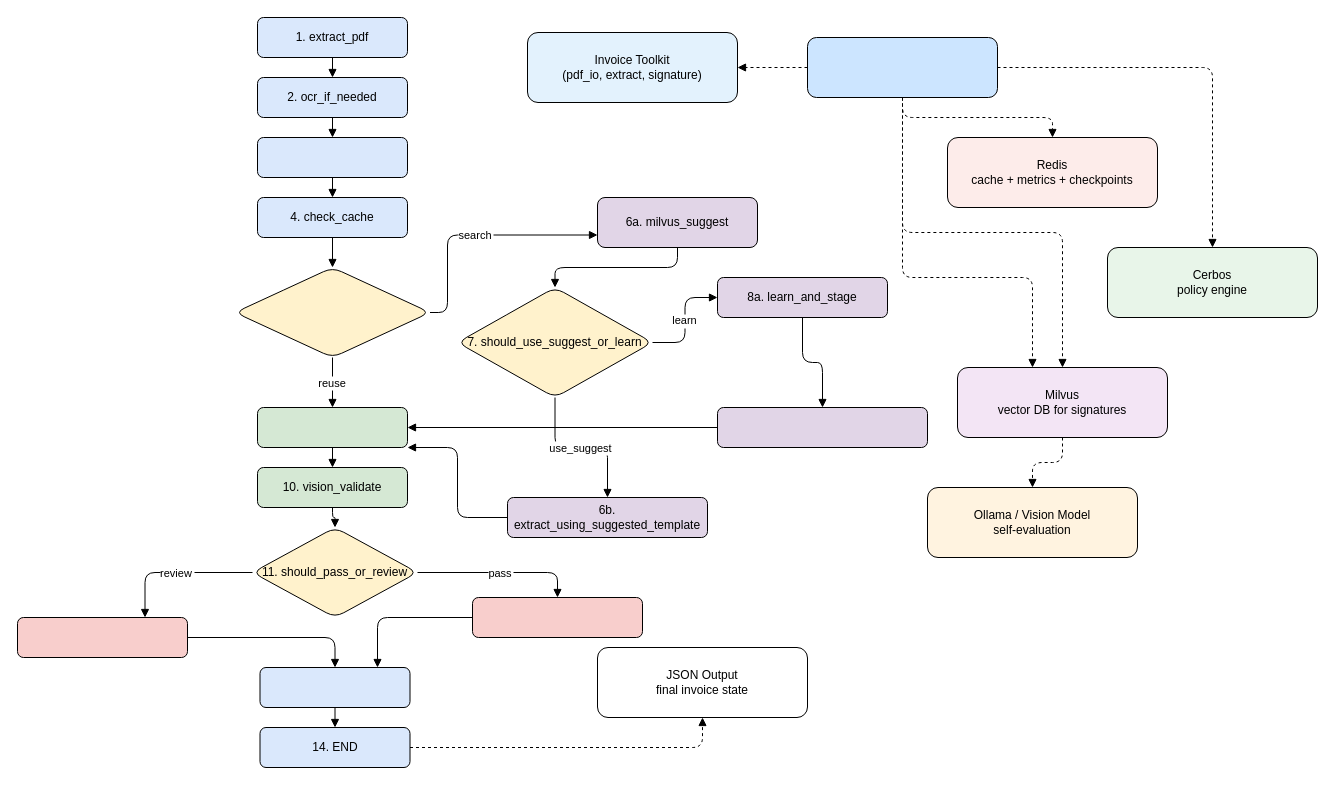
Image size: 1335x785. Some labels were removed from this diagram. Each missing label, with the box of its shape:
12a. promote_template: (472, 596, 642, 638)
12b. mark_for_review: (16, 616, 188, 658)
13. done: (259, 666, 410, 708)
3. signature: (256, 136, 408, 178)
5. should_reuse_or_search: (234, 266, 430, 358)
8b. extract_using_learned_template: (716, 406, 928, 448)
9. extract_fields: (256, 406, 408, 448)
LangGraph Orchestrator: (806, 36, 998, 98)
